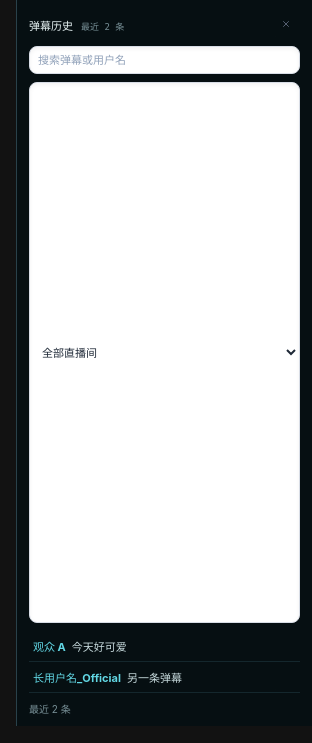
Test case: filters by username or text and preserves empty-result copy
Type "可爱" into the search field named "搜索弹幕历史". click: [164, 60]
box: [29,46,300,74]
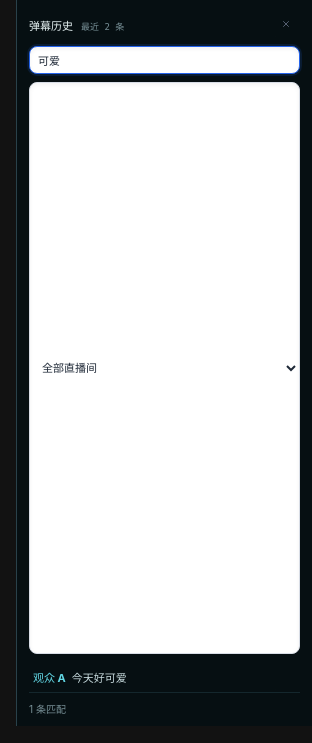
Expected: the text "今天好可爱" is shown, [72,671,127,685]
Expected: the button "另一条弹幕" is gone
Replace the text in the search field named "搜索弹幕历史" with "不存在". click: [164, 60]
box: [29,46,300,74]
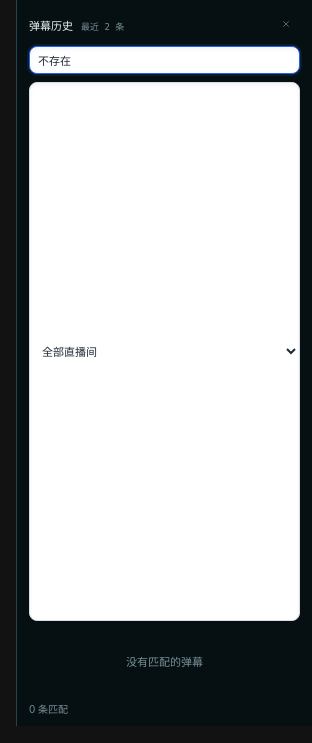
Expected: the text "没有匹配的弹幕" is shown, [126,655,203,669]
